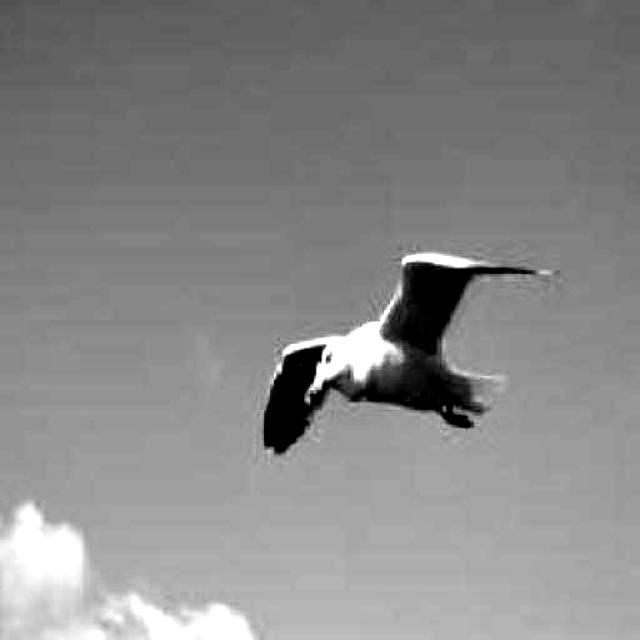airplane: (260, 249, 568, 459)
